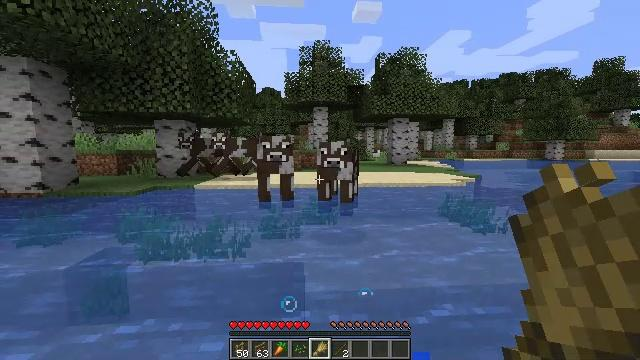cow: (316, 142, 359, 212), (255, 136, 295, 201), (210, 129, 256, 174), (177, 131, 213, 175)
